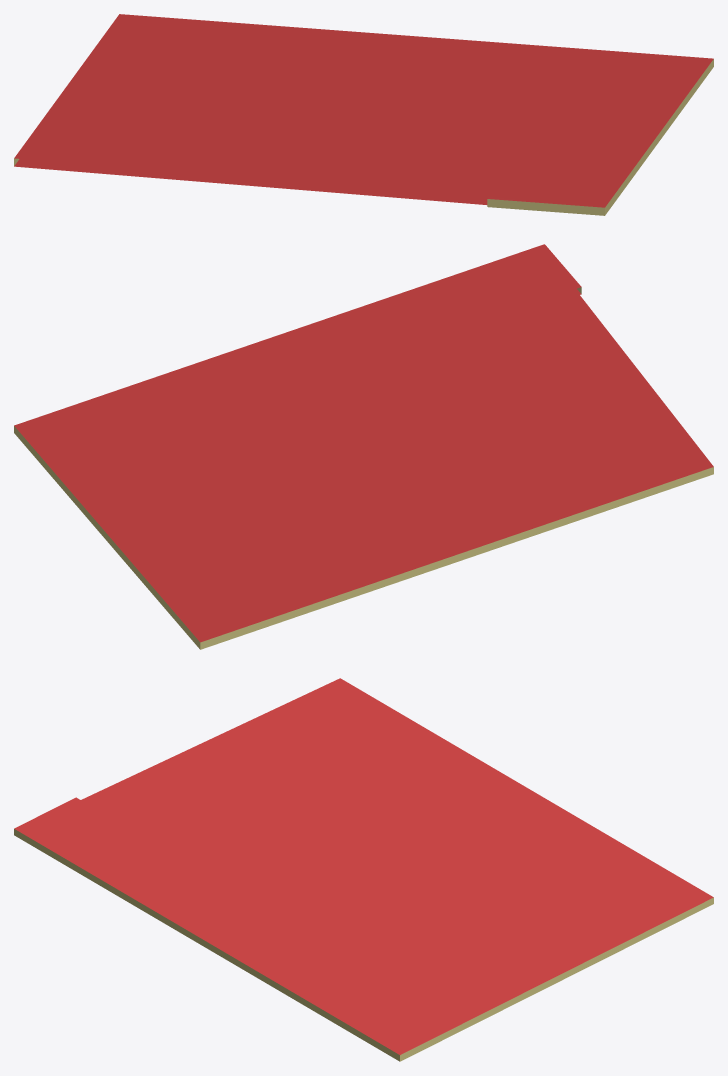
The picture shows the model from 3 angles, top to bottom: view 1: azimuth 30°, elevation 25°; view 2: azimuth 150°, elevation 25°; view 3: azimuth 270°, elevation 25°; orthographic projection. The views are drawn at different scales.
Bounding box in the file's own units: 9.42 × 9.59 × 1.45.
